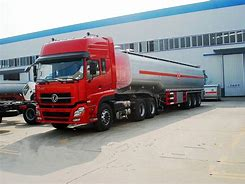oil truck: (24, 25, 210, 122)
